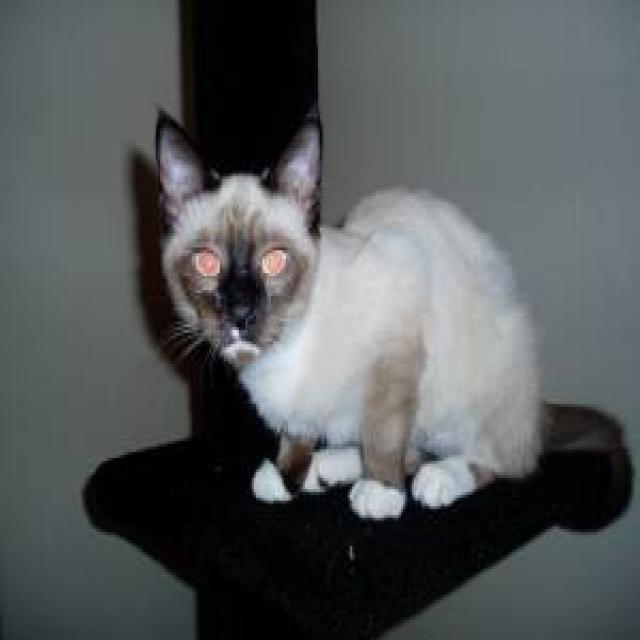Siamese: (151, 105, 327, 376)
